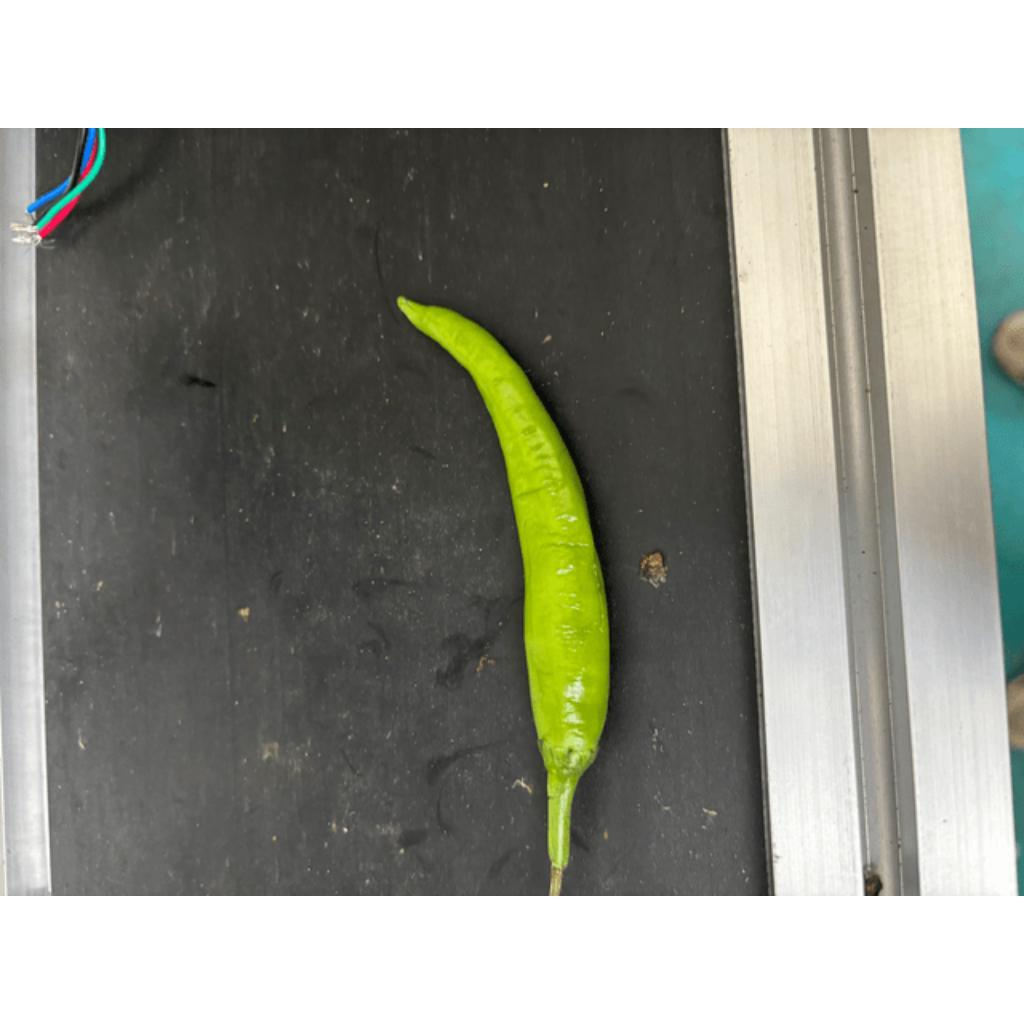chili: (393, 293, 615, 781)
